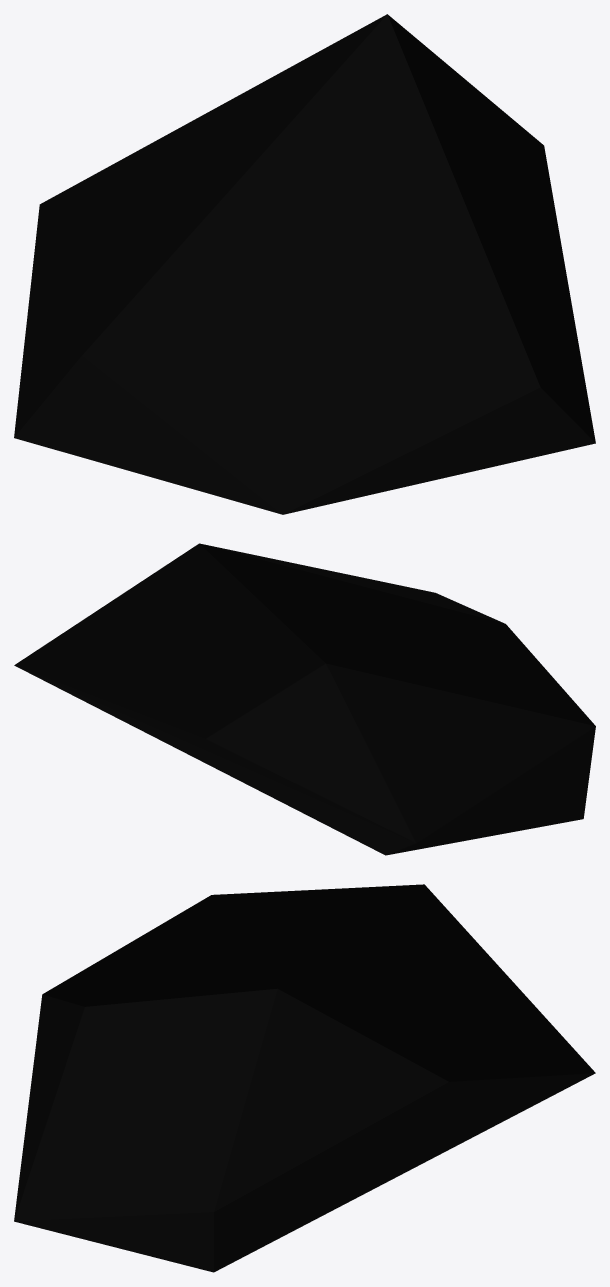
The picture shows the model from 3 angles, top to bottom: view 1: azimuth 30°, elevation 25°; view 2: azimuth 150°, elevation 25°; view 3: azimuth 270°, elevation 25°; orthographic projection. The views are drawn at different scales.
Size of the model in its own units: 0.0344 by 0.0191 by 0.0328.
Materials: 1 (1 with a texture image).
